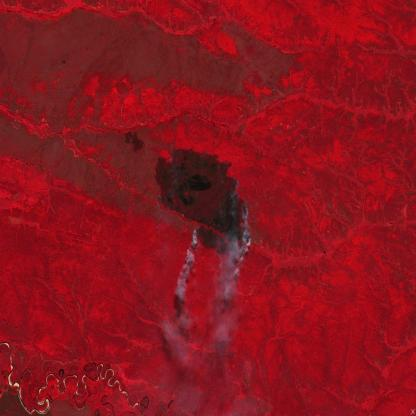fire: (193, 174, 252, 264), (168, 143, 183, 165), (153, 191, 165, 208)
